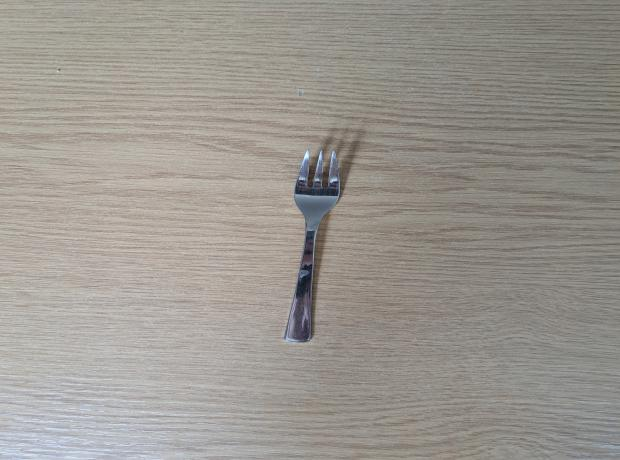metal: (283, 149, 345, 344)
